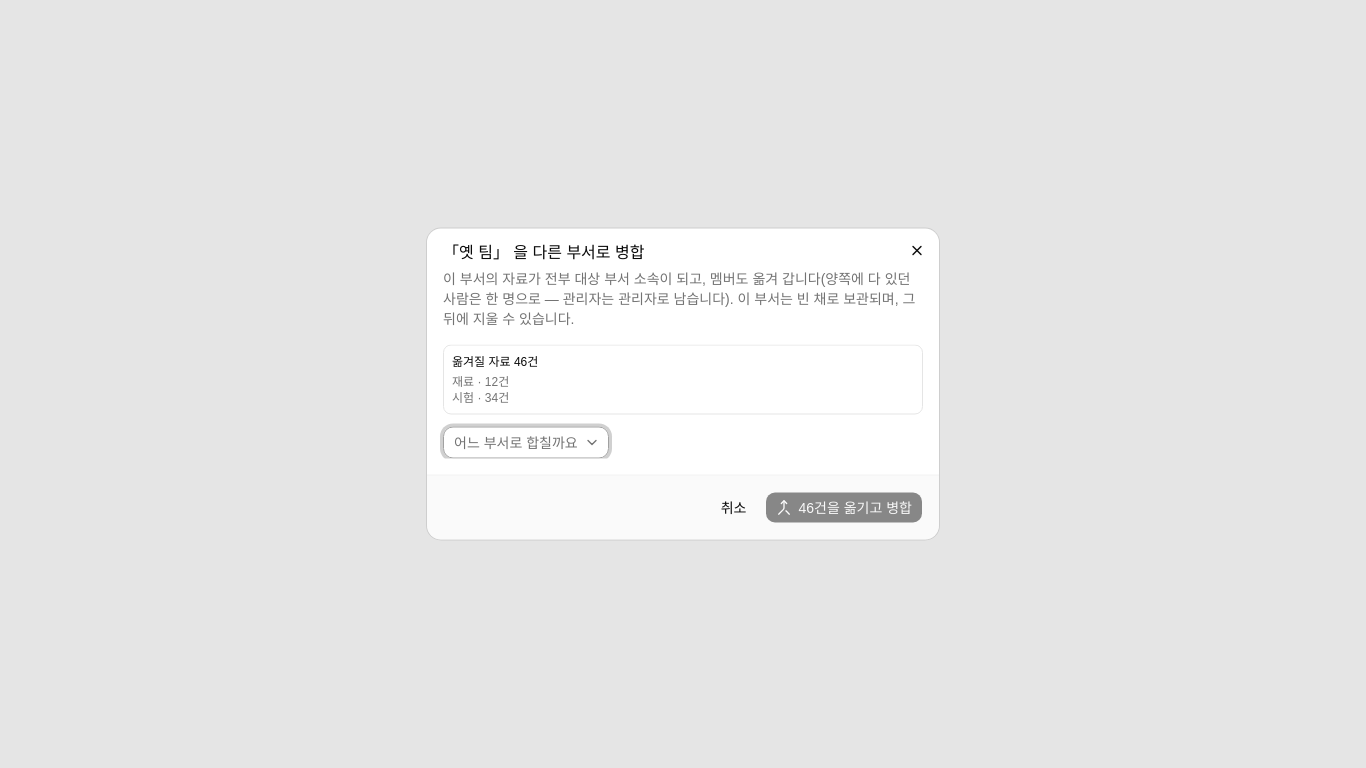
무엇이 옮겨지는지 보고 누른다 › 원본과 보관된 부서는 대상 후보에 없다
Click the dropdown named "합칠 대상 부서".
click(526, 442)  # box 443,426 -> 609,458
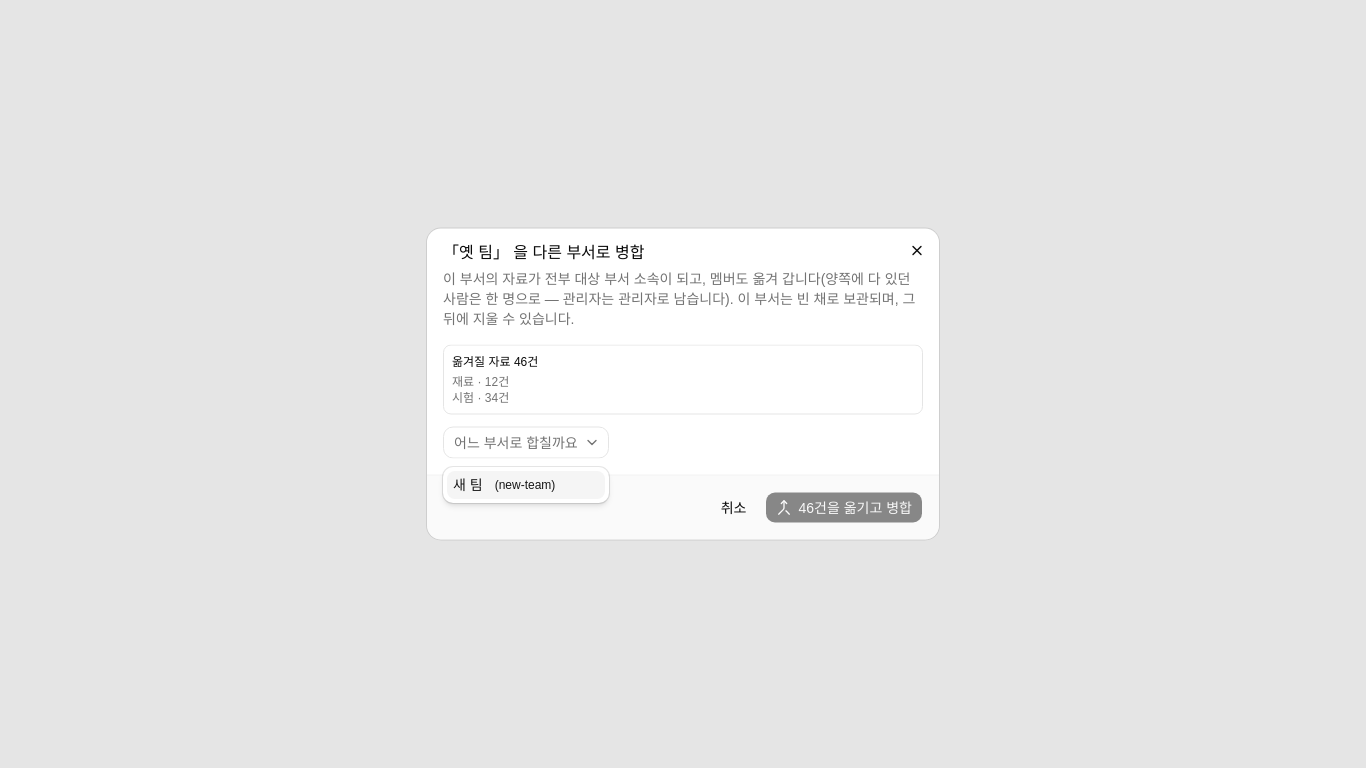
Check: the option "새 팀 (new-team)" is shown, box 447,471 -> 605,499
